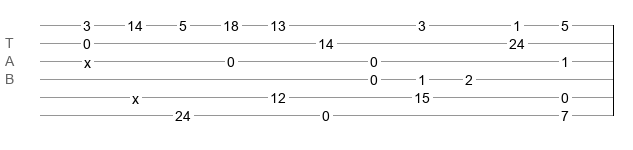0: (83, 36, 91, 46), (227, 54, 235, 64), (322, 108, 330, 118), (370, 54, 378, 64), (370, 72, 378, 82), (561, 90, 569, 100)
1: (418, 72, 426, 82), (513, 18, 521, 28), (561, 54, 569, 64)
12: (270, 90, 286, 100)
13: (270, 18, 286, 28)
14: (127, 18, 143, 28), (318, 36, 334, 46)
15: (414, 90, 430, 100)
18: (223, 18, 239, 28)
2: (465, 72, 473, 82)
24: (175, 108, 191, 118), (509, 36, 525, 46)
3: (83, 18, 91, 28), (418, 18, 426, 28)
5: (179, 18, 187, 28), (561, 18, 569, 28)
7: (561, 108, 569, 118)
x: (84, 55, 91, 63), (132, 91, 139, 99)
